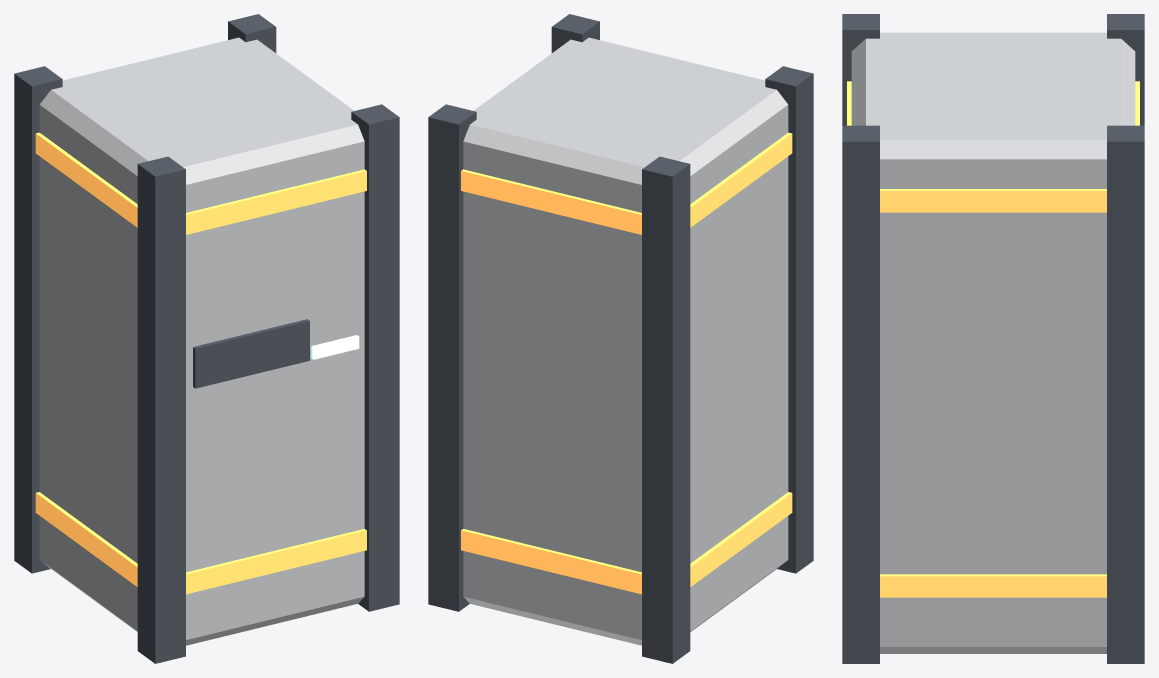
Rendered from spaceship-deck-kit-crate-tall-4cadfcb3__12589.glb.
3 views of the same model, side by side, from view 1: azimuth 30°, elevation 25°; view 2: azimuth 150°, elevation 25°; view 3: azimuth 270°, elevation 25° (orthographic). The views are drawn at different scales.
Parts seen in each view (by area): view 1: crate-tall; view 2: crate-tall; view 3: crate-tall.
Boxes of the visible parts, x1,y1,x2,y2 form: crate-tall: [14, 14, 399, 663]; crate-tall: [428, 14, 813, 663]; crate-tall: [842, 14, 1144, 663].
Size of the model in its own units: 0.64 by 1.22 by 0.64.
